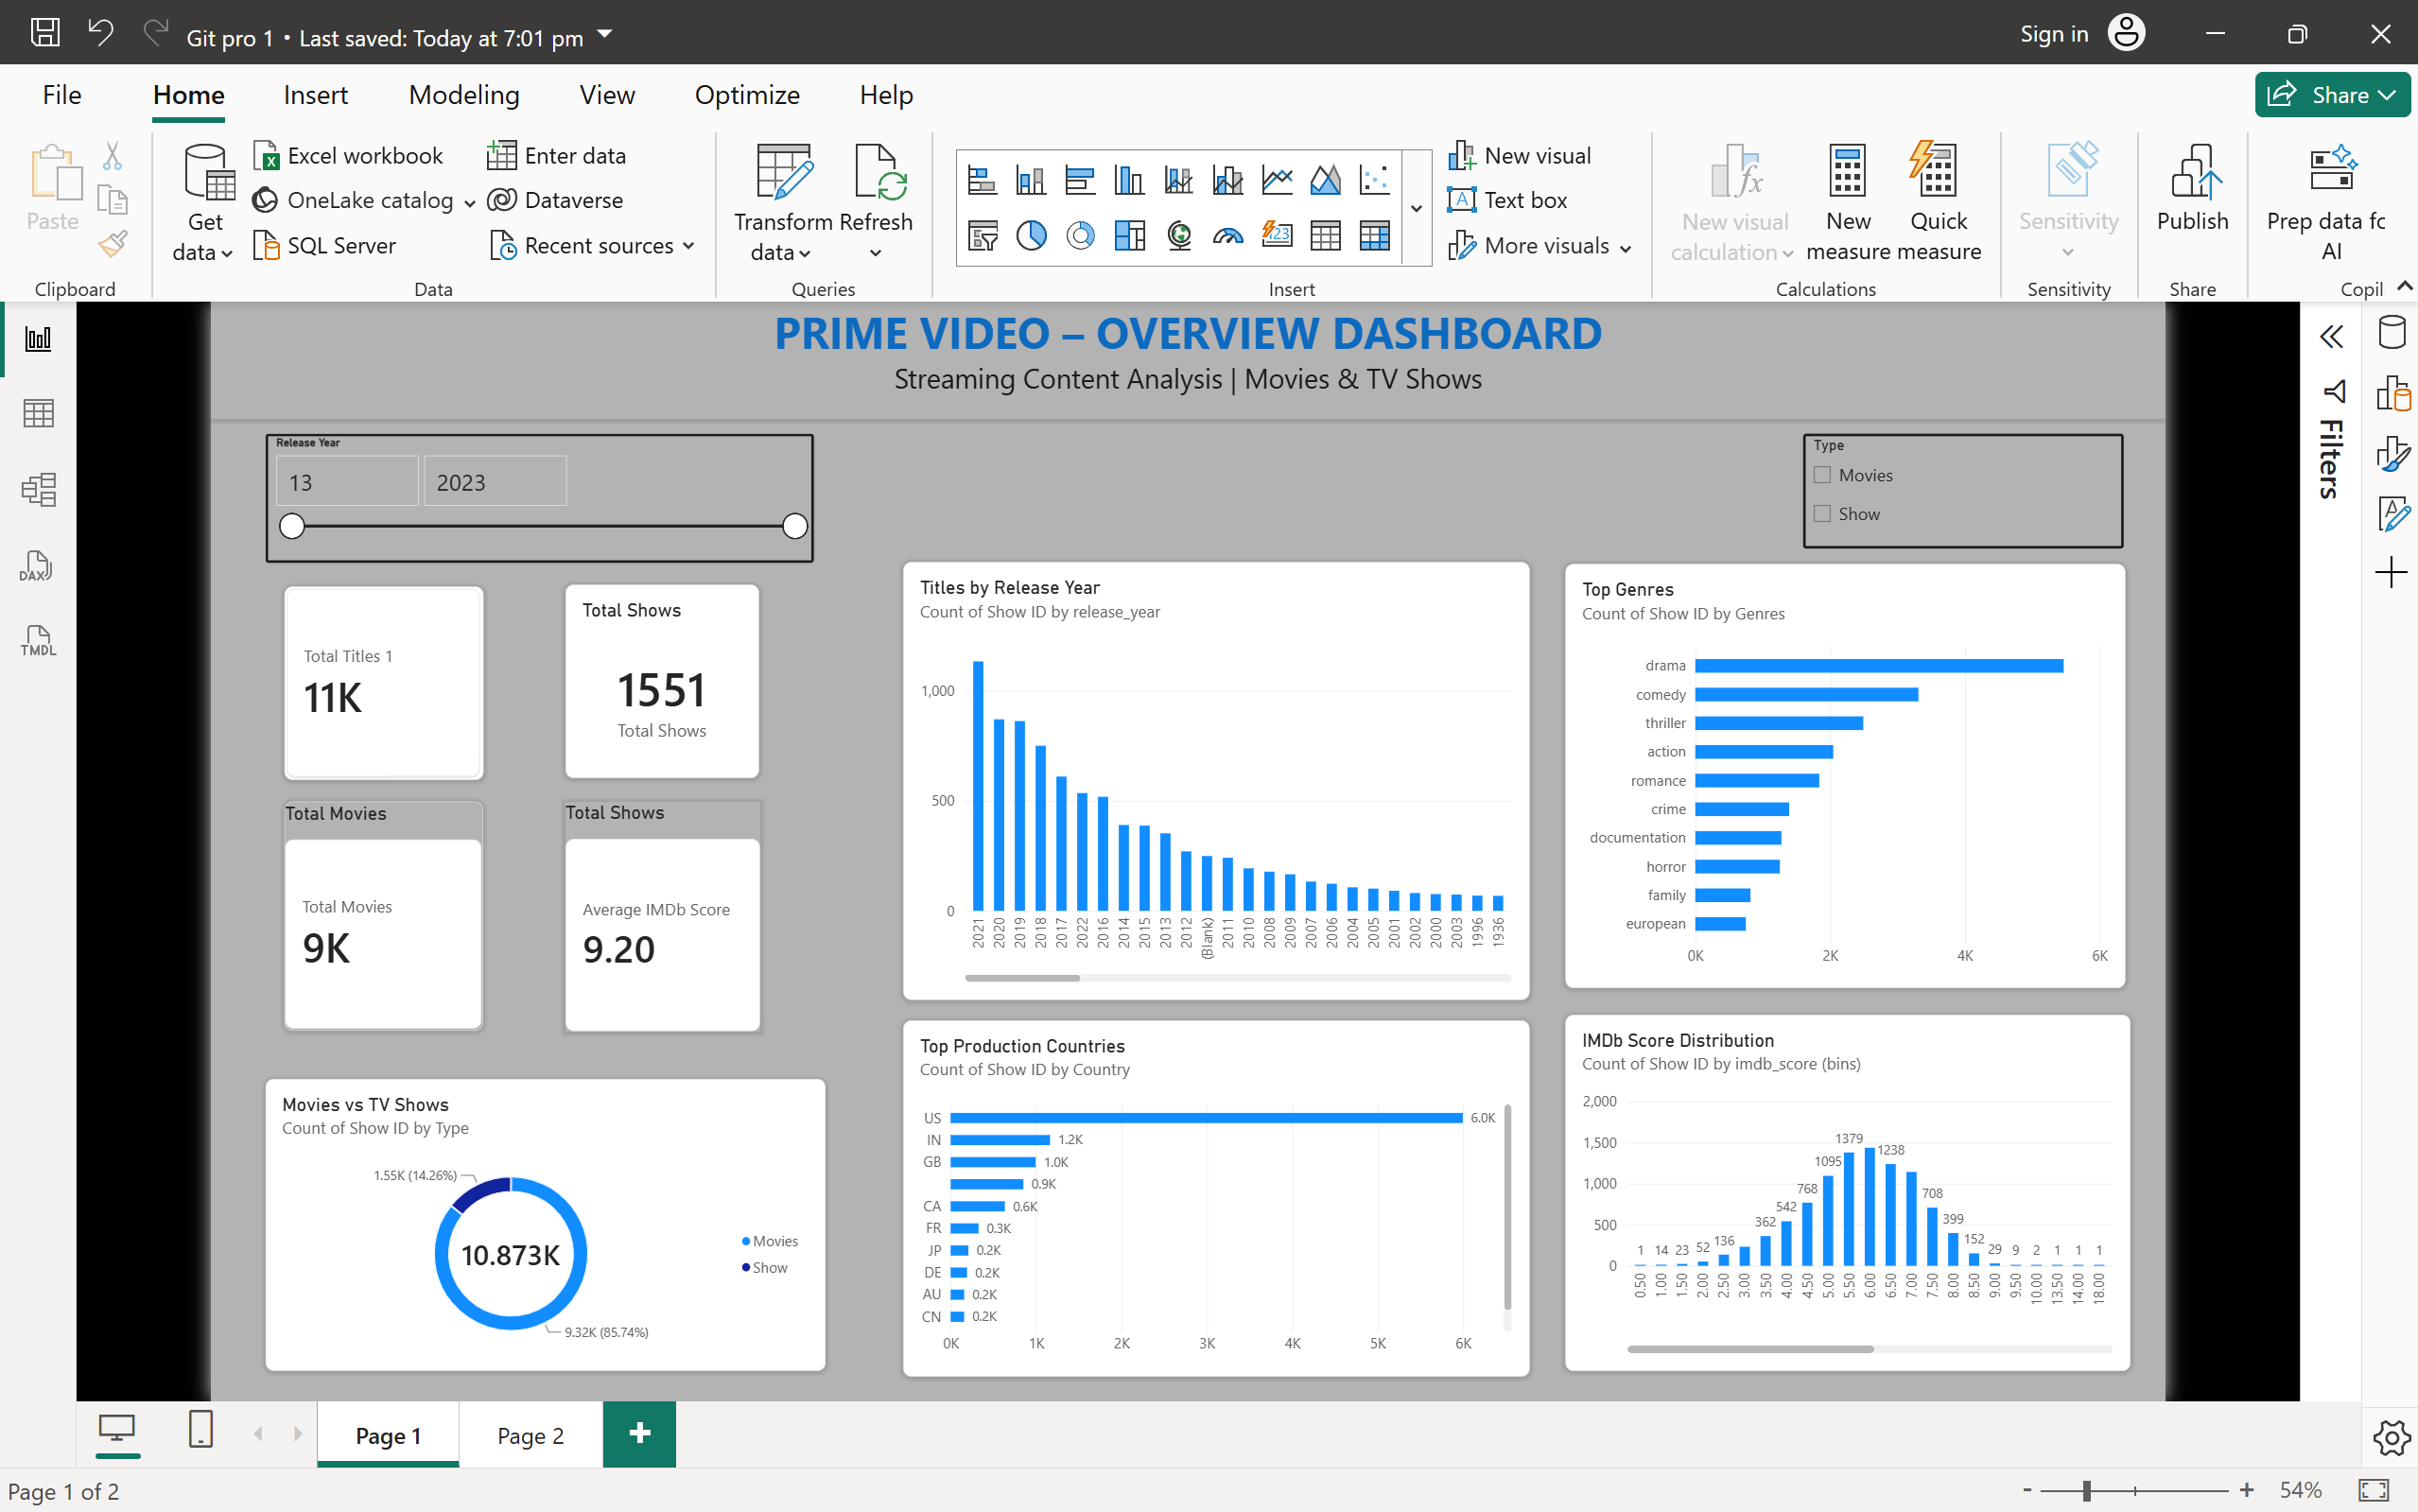

Layout of this report page (visuals, bound fields, positions):
{"tool":"powerbi","page":{"name":"Page 1","canvas":[1920,1080],"ordinal":0},"visuals":[{"type":"cardVisual","title":"Total Movies","fields":{"Data":["Credits.Total Movies"]},"box":[72.8,490.7,195,225],"z":0},{"type":"card","title":"Total Shows","fields":{"Values":["Credits.Total Shows"]},"box":[347.5,277.1,190.2,190.2],"z":1000},{"type":"donutChart","title":"Movies vs TV Shows","fields":{"Category":["Prime Video.Type"],"Y":["CountNonNull(Prime Video.Show ID)"]},"box":[53.3,763.3,550,286.7],"z":2000},{"type":"clusteredColumnChart","title":"Titles by Release Year","fields":{"Category":["Prime Video.release_year"],"Y":["Count(Prime Video.Show ID)"]},"box":[680,255,615,430],"z":3000},{"type":"clusteredBarChart","title":"Top Genres","fields":{"Category":["Title Genre.Genres"],"Y":["Count(Title Genre.Show ID)"]},"box":[1330,256.7,550,416.7],"z":4000},{"type":"clusteredBarChart","title":"Top Production Countries","fields":{"Category":["Title Countries.Country"],"Y":["CountNonNull(Title Countries.Show ID)"]},"box":[680,705,615,350],"z":5000},{"type":"clusteredColumnChart","title":"IMDb Score Distribution","fields":{"Category":["Prime Video.imdb_score (bins)"],"Y":["CountNonNull(Prime Video.Show ID)"]},"box":[1330,700,555,350],"z":6000},{"type":"cardVisual","fields":{"Data":["Prime Video.Total Titles 1"]},"box":[72.8,279.4,195.7,190],"z":7000},{"type":"textbox","box":[0,0,1919.6,115.4],"z":8000},{"type":"cardVisual","title":"Total Shows","fields":{"Data":["Credits.Average IMDb Score"]},"box":[347.5,490.7,191.4,225.7],"z":9000},{"type":"slicer","fields":{"Values":["Prime Video.Type"]},"box":[1563.8,129.1,314.6,112.7],"z":11000},{"type":"slicer","fields":{"Values":["Prime Video.release_year"]},"box":[53.9,128.9,538.6,126.9],"z":12000}]}

Visuals, with their boxes on the page's 1920x1080 design canvas (x1, y1, x2, y2). These are canvas units, not pixel positions in the 2418x1512 screenshot, which may show the page scaled, cropped or inside an application window:
"Total Movies" cardVisual: left=73, top=491, right=268, bottom=716
"Total Shows" card: left=348, top=277, right=538, bottom=467
"Movies vs TV Shows" donutChart: left=53, top=763, right=603, bottom=1050
"Titles by Release Year" clusteredColumnChart: left=680, top=255, right=1295, bottom=685
"Top Genres" clusteredBarChart: left=1330, top=257, right=1880, bottom=673
"Top Production Countries" clusteredBarChart: left=680, top=705, right=1295, bottom=1055
"IMDb Score Distribution" clusteredColumnChart: left=1330, top=700, right=1885, bottom=1050
cardVisual - Prime Video.Total Titles 1: left=73, top=279, right=268, bottom=469
textbox: left=0, top=0, right=1920, bottom=115
"Total Shows" cardVisual: left=348, top=491, right=539, bottom=716
slicer - Prime Video.Type: left=1564, top=129, right=1878, bottom=242
slicer - Prime Video.release_year: left=54, top=129, right=592, bottom=256
